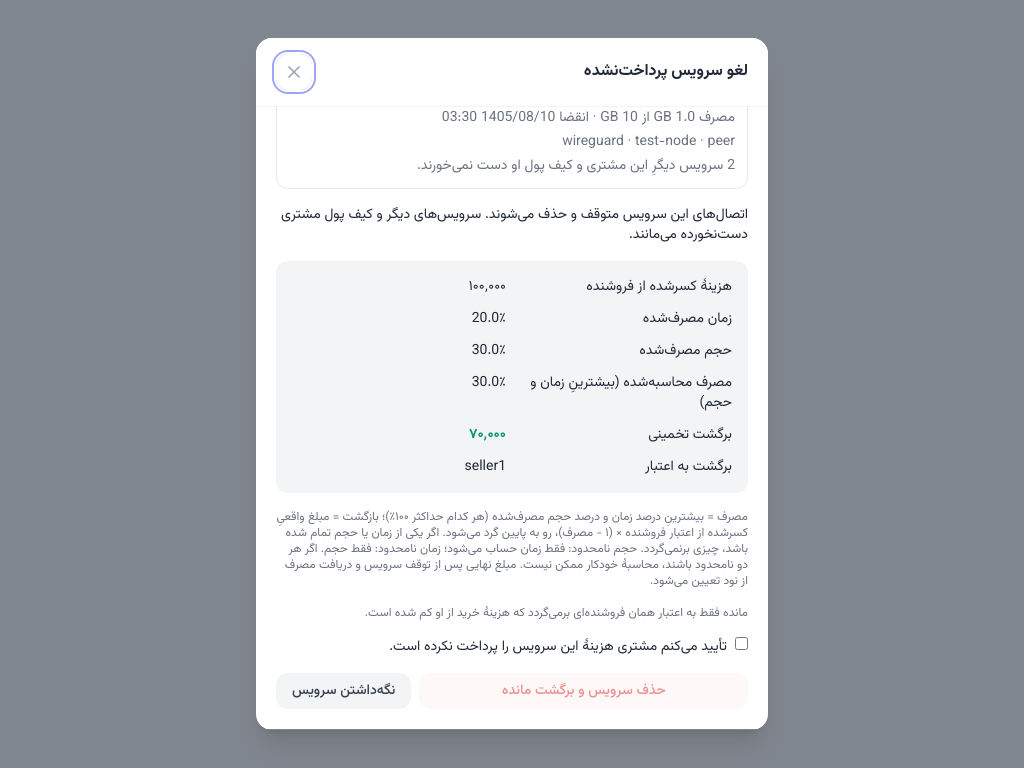
Test: unpaid cancellation dialog › a lost response reads the server record: done if it completed
The image size is (1024, 768).
(page scrolled)
Click the checkbox labelled "تأیید می‌کنم مشتری هزینهٔ این سرویس را پرداخت نکرده است.": (742,644) top-left (735, 637), bottom-right (748, 650)
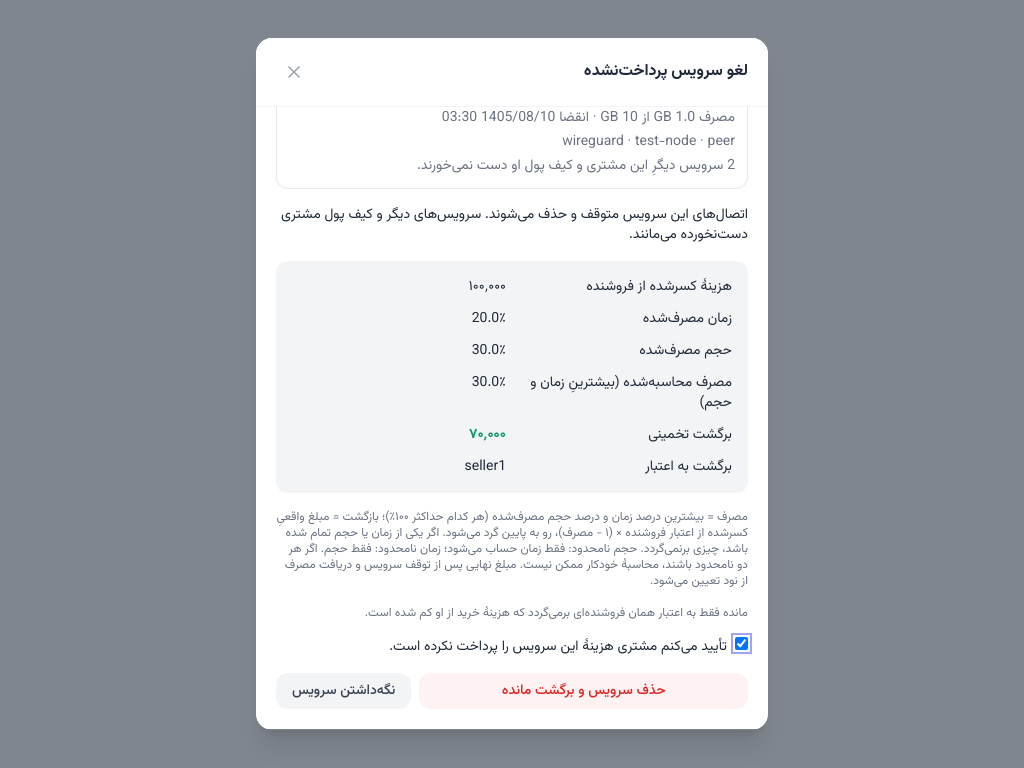
Click the button "حذف سرویس و برگشت مانده": (584,691) top-left (419, 673), bottom-right (748, 709)
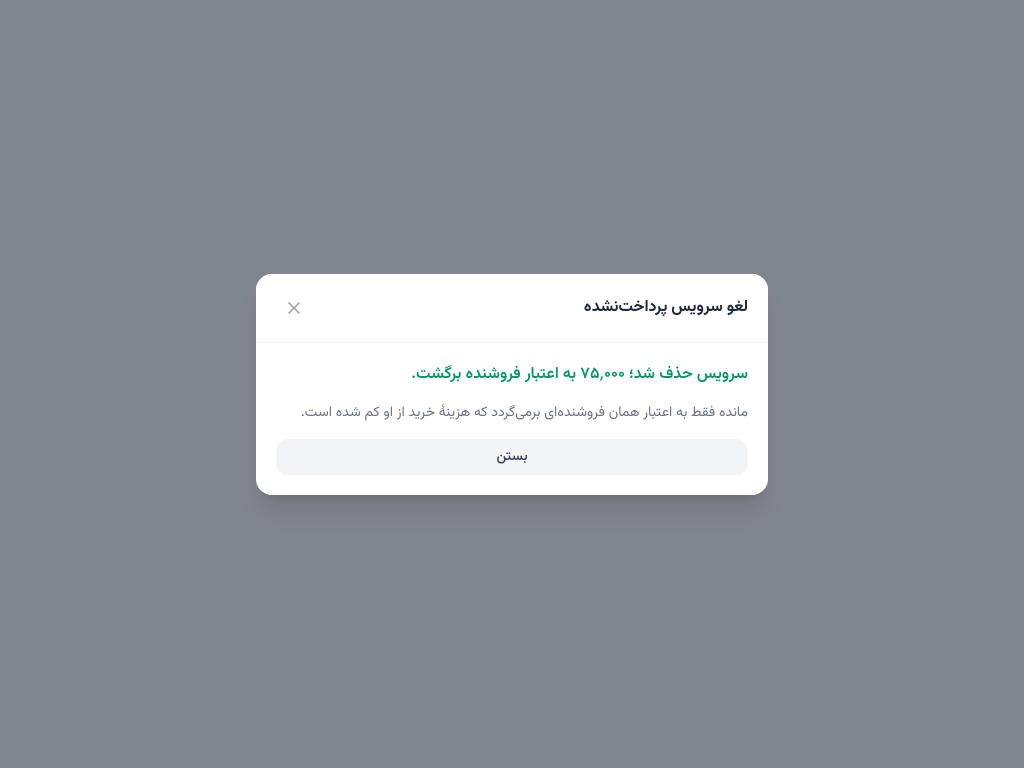
Check: the text "سرویس حذف شد؛ ۷۵٬۰۰۰ به اعتبار فروشنده برگشت." is shown, box top-left (411, 362), bottom-right (748, 386)
